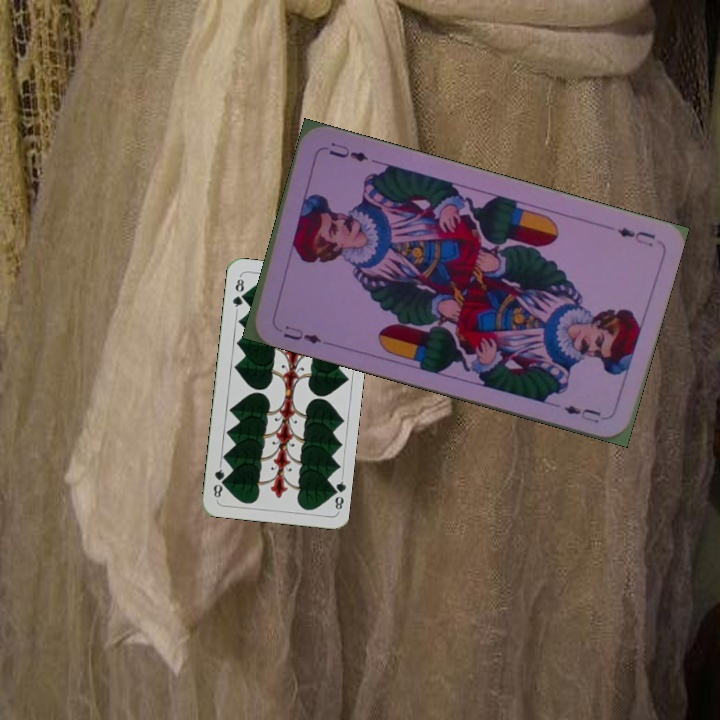EU: (279, 321, 324, 347), (613, 223, 658, 249)
G8: (327, 473, 348, 514), (228, 273, 247, 313)
